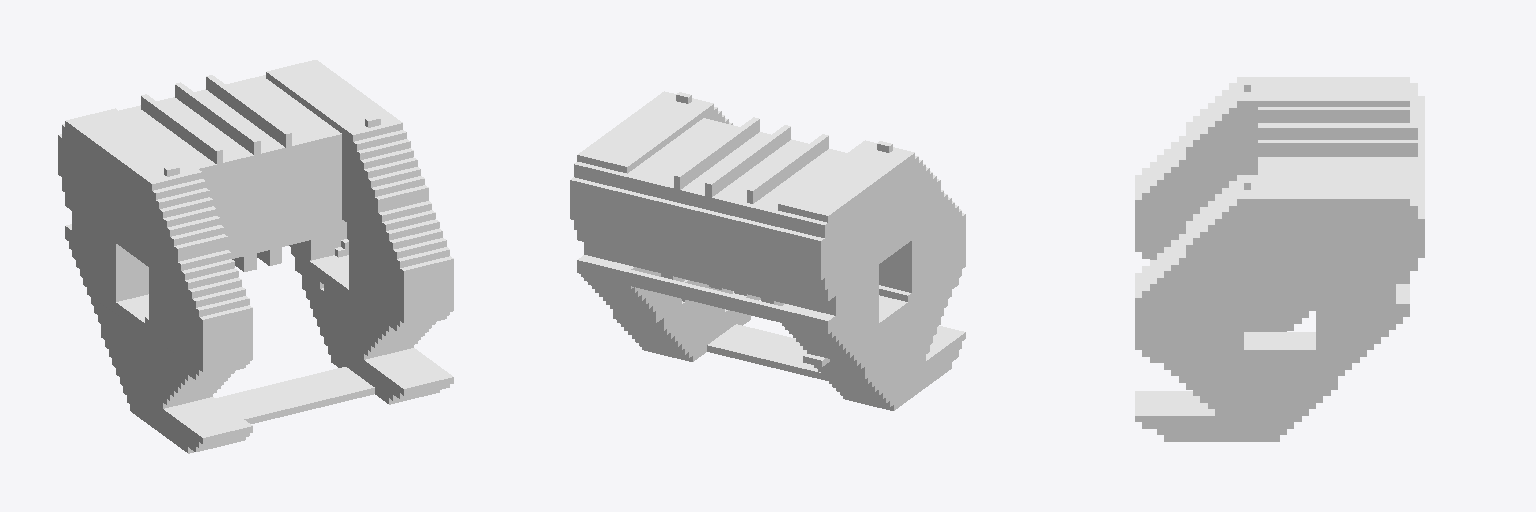
Rendered from subenemy.obj.
The picture shows the model from 3 angles: view 1: azimuth 30°, elevation 25°; view 2: azimuth 150°, elevation 25°; view 3: azimuth 270°, elevation 25°; orthographic projection.
Visible parts, largest first — view 1: object 1; view 2: object 1; view 3: object 1.
Boxes of the visible parts, x1,y1,x2,y2 form: object 1: [58, 60, 453, 453]; object 1: [570, 91, 965, 410]; object 1: [1135, 77, 1424, 441].
Bounding box in the file's own units: 4 × 3.8 × 4.